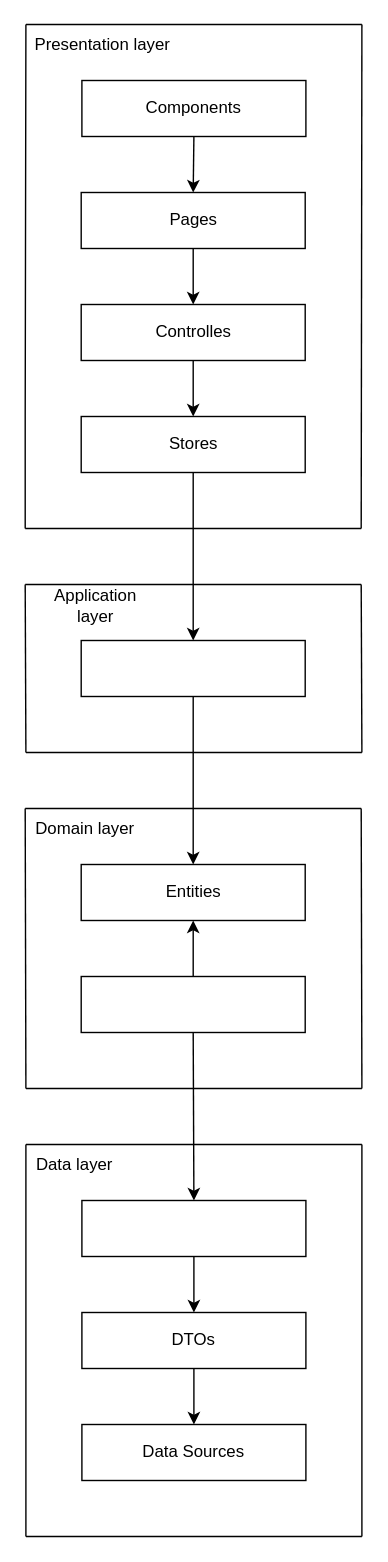
Some shapes in this 388 by 1562 pixel diagram are drawn without their labels. The centre of each missing label's shape, as x and y in pixels:
"Repositories" goes at pixel 193 1227.
"Repository interfaces" goes at pixel 192 1003.
"Services" goes at pixel 192 667.
